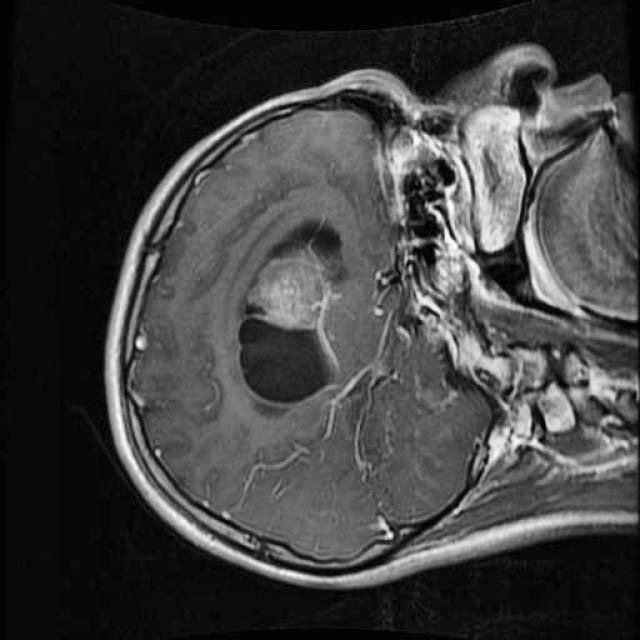Tumor: (230, 204, 351, 424)
